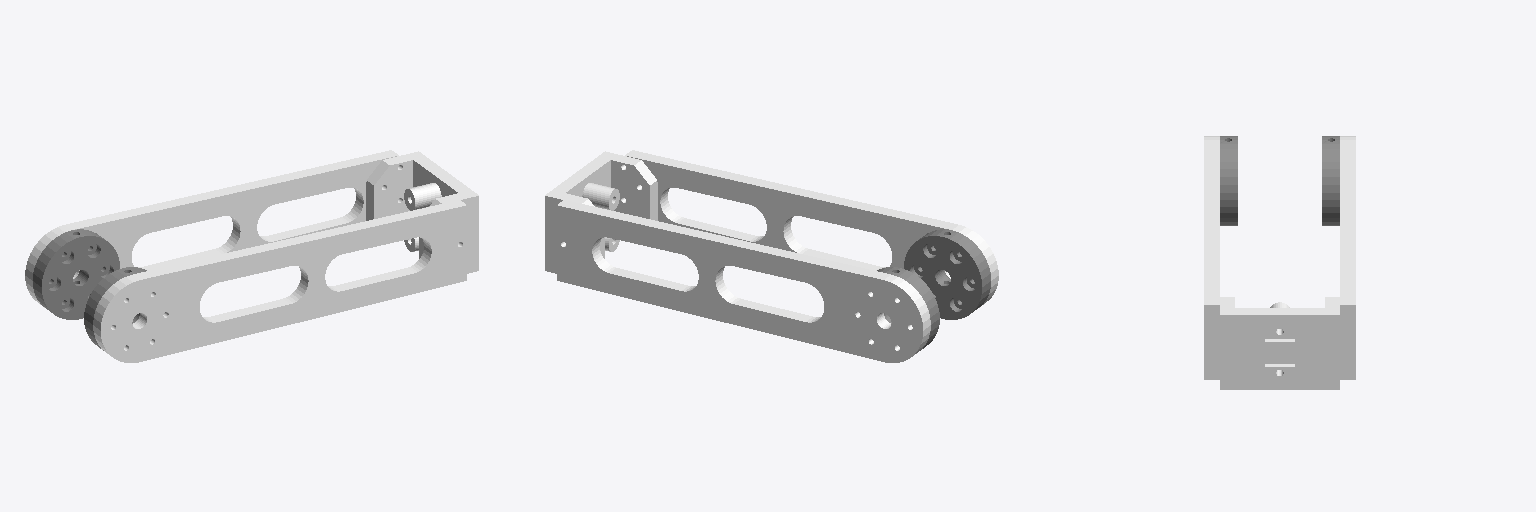
Rendered from khau3.obj.
3 views of the same model, side by side, from view 1: azimuth 30°, elevation 25°; view 2: azimuth 150°, elevation 25°; view 3: azimuth 270°, elevation 25° (orthographic).
Visible parts, largest first — view 1: khau3_1, khau3, gripper_adapter, dem truc, dem truc_1; view 2: khau3, khau3_1, gripper_adapter, dem truc_1, dem truc; view 3: gripper_adapter, khau3, khau3_1, dem truc, dem truc_1.
Boxes of the visible parts, x1=… form: khau3_1: x1=93, y1=200, x2=466, y2=362; khau3: x1=25, y1=150, x2=398, y2=307; gripper_adapter: x1=366, y1=151, x2=478, y2=273; dem truc: x1=33, y1=229, x2=119, y2=319; dem truc_1: x1=84, y1=267, x2=146, y2=350; khau3: x1=557, y1=200, x2=930, y2=362; khau3_1: x1=625, y1=150, x2=998, y2=307; gripper_adapter: x1=545, y1=151, x2=657, y2=273; dem truc_1: x1=904, y1=229, x2=990, y2=319; dem truc: x1=877, y1=267, x2=939, y2=350; gripper_adapter: x1=1220, y1=297, x2=1339, y2=389; khau3: x1=1340, y1=136, x2=1355, y2=379; khau3_1: x1=1204, y1=136, x2=1219, y2=379; dem truc: x1=1322, y1=136, x2=1339, y2=225; dem truc_1: x1=1220, y1=136, x2=1237, y2=225.
Size of the model in its own units: 295 by 60 by 100.